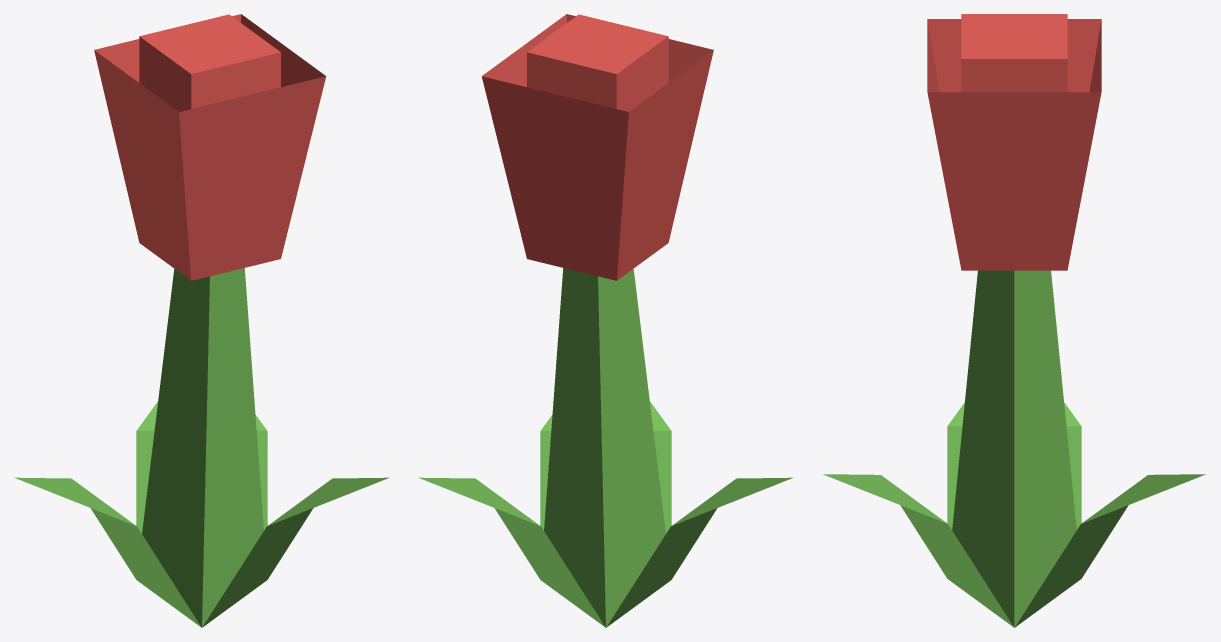
File: flower_red.glb
The picture shows the model from 3 angles, left to right: view 1: azimuth 30°, elevation 25°; view 2: azimuth 150°, elevation 25°; view 3: azimuth 270°, elevation 25°; orthographic projection. The views are drawn at different scales.
Parts seen in each view (by area): view 1: flower_redA; view 2: flower_redA; view 3: flower_redA.
Boxes of the visible parts, <box> form: flower_redA: <box>14,14,389,627</box>; flower_redA: <box>418,14,793,627</box>; flower_redA: <box>822,14,1206,627</box>.
Bounding box in the file's own units: 0.1591 × 0.2925 × 0.1811.
